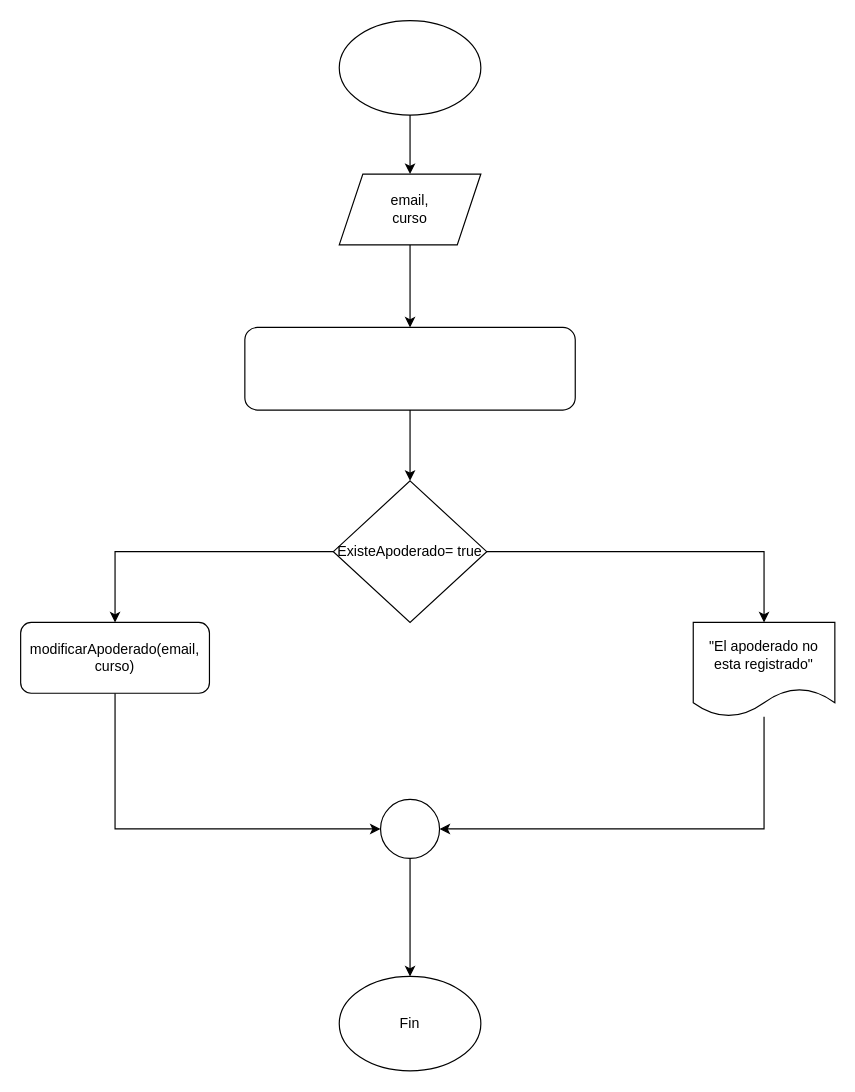
The diagram is 855 pixels wide and 1092 high, and some of its shapes have lost their labels. Here are the shapes that lost their labels. From the top down, the centre of each, then its label:
(409,67): Modificar Apoderado
(409,368): ExisteApoderado= buscarApoderado(email, curso)
